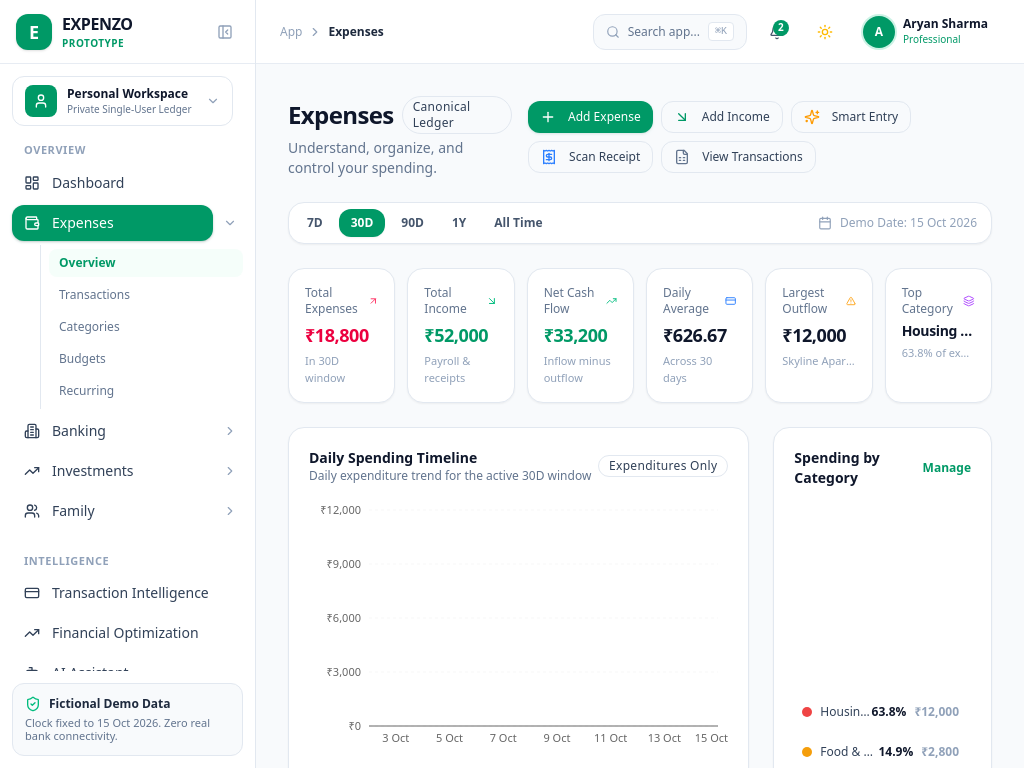
Test case: Phase 5 Expense Tracking, Ledger, Categories, Budgets & Recurring Tests › validates invalid inputs in transaction form and displays balance warnings
// Click Add Expense
Click the button "Add Expense" at (590, 117), box [528,101,653,133]
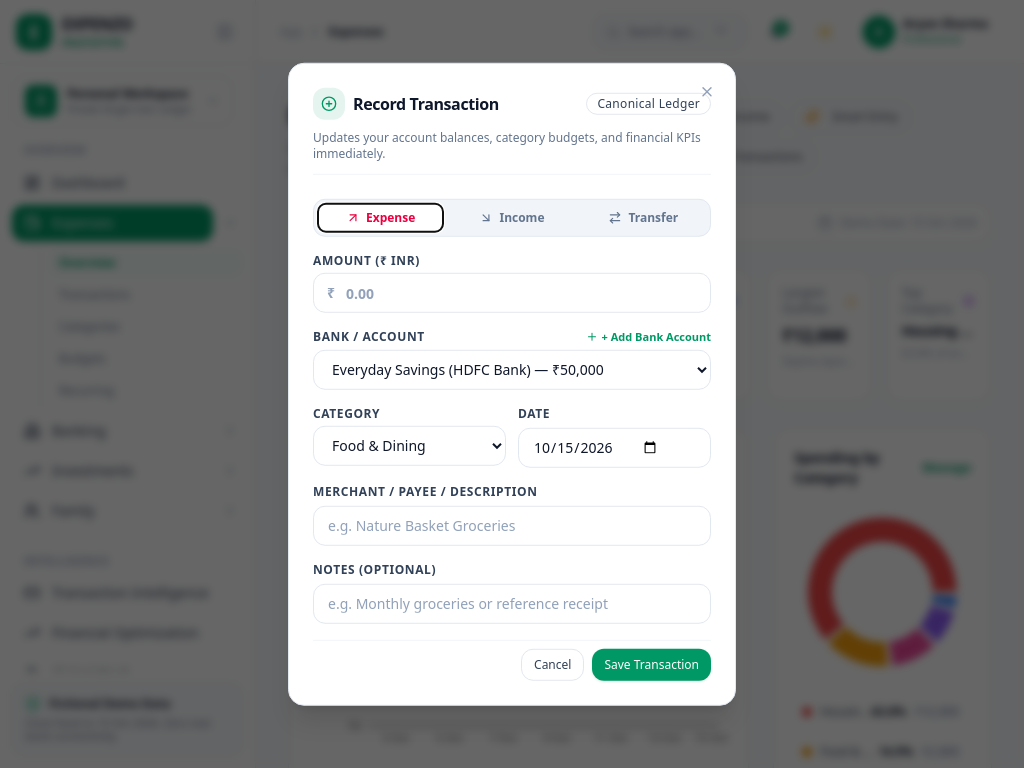
// Enter excessive amount
Type "9999999" into the number field with placeholder "0.00" at (512, 293), box [313,273,711,313]
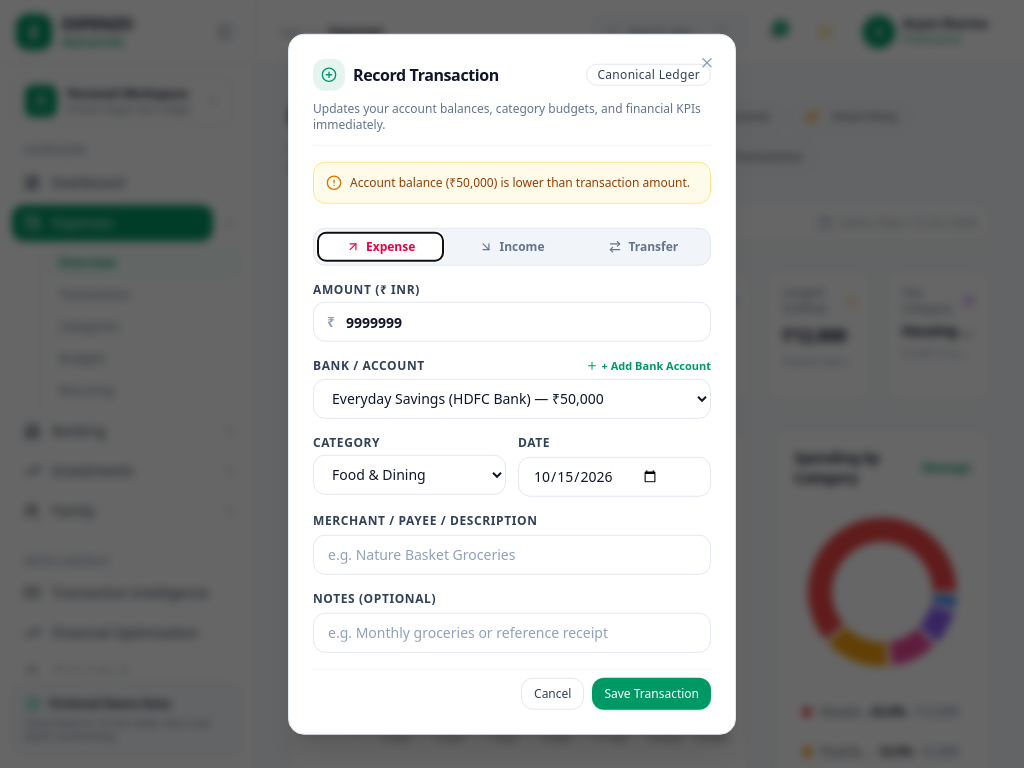
Result: the text "Account balance (₹50,000) is lower than transaction amount." is shown at [350,175,690,191]
